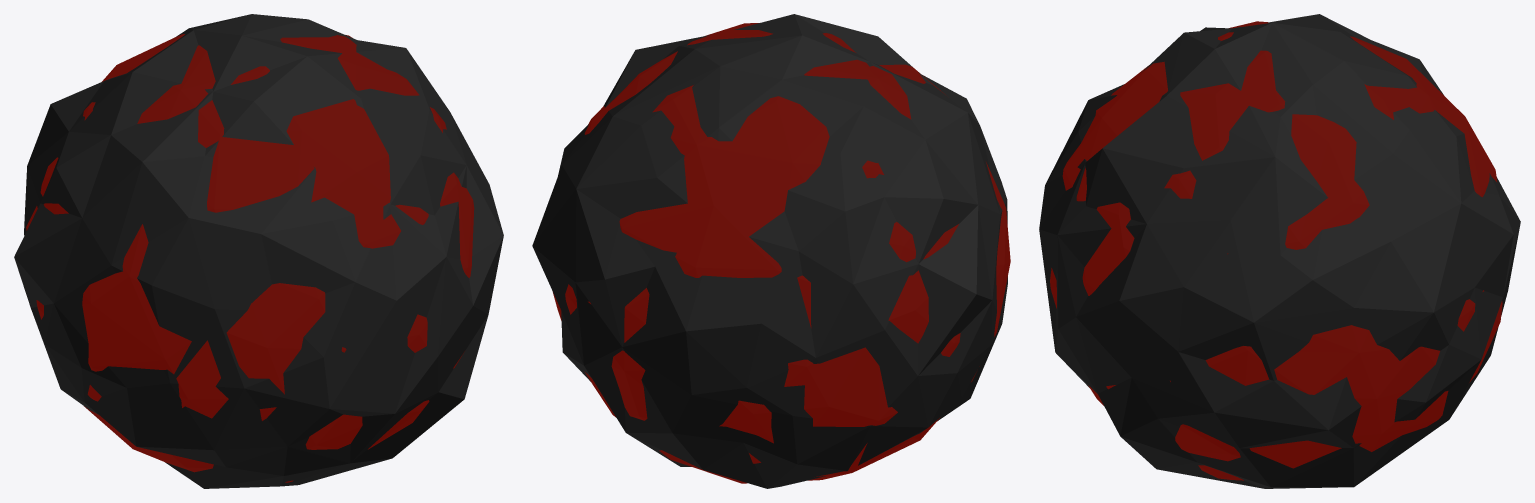
File: lava_planet9.fbx
3 renders of one model, left to right at view 1: azimuth 30°, elevation 25°; view 2: azimuth 150°, elevation 25°; view 3: azimuth 270°, elevation 25°, orthographic.
Visible parts, largest first — view 1: lava_planet9; view 2: lava_planet9; view 3: lava_planet9.
Boxes of the visible parts, bbox=[...] form: lava_planet9: bbox=[14, 14, 503, 488]; lava_planet9: bbox=[532, 14, 1010, 488]; lava_planet9: bbox=[1039, 14, 1520, 488].
Size of the model in its own units: 207 by 200 by 201.
